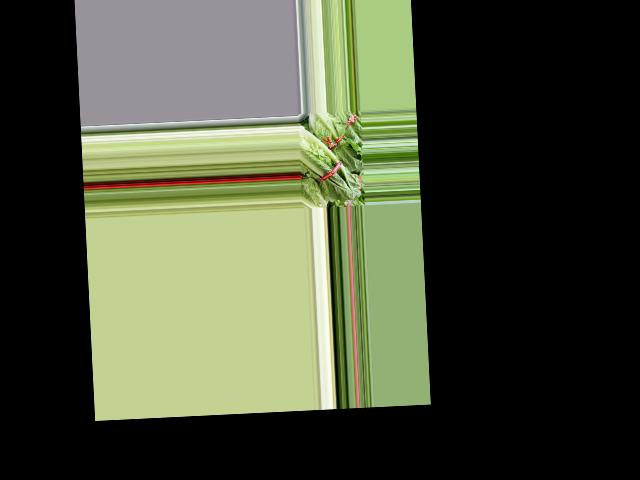lettuce: (297, 124, 362, 204)
